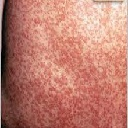Measles: (14, 16, 120, 123)
